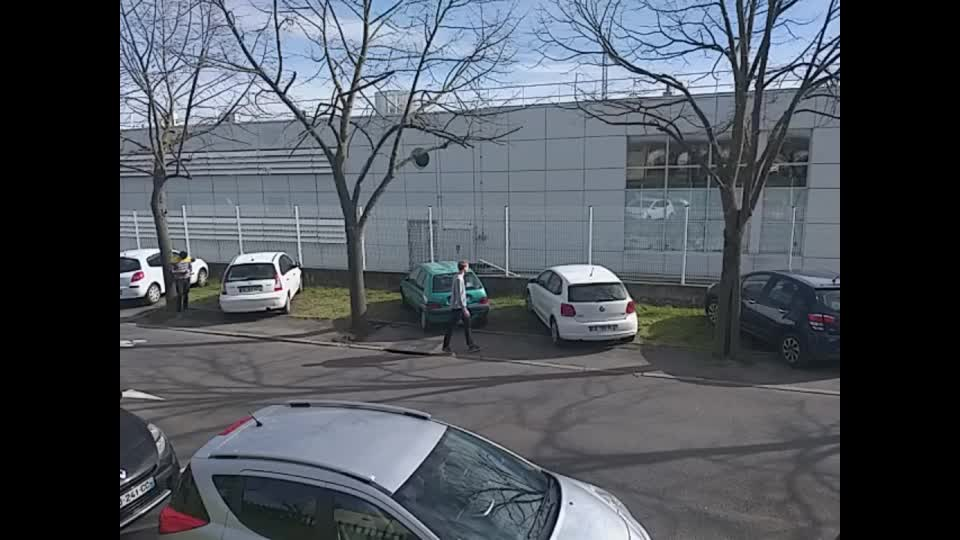jugador: (438, 257, 488, 359)
